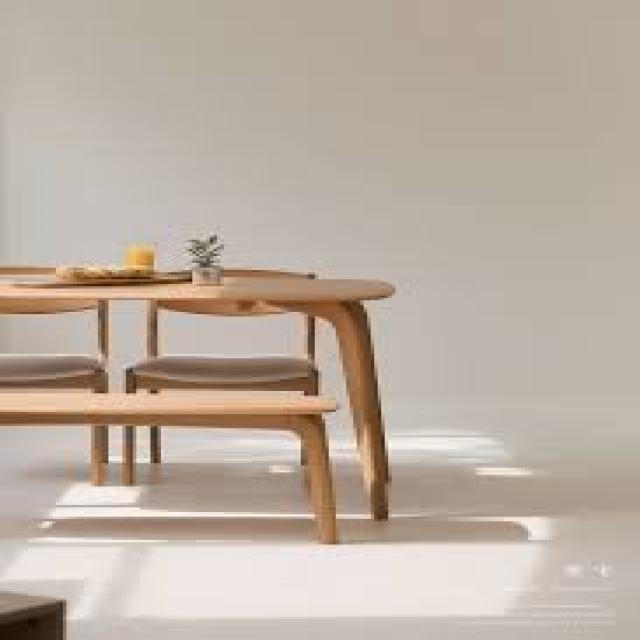table: (0, 240, 432, 548)
